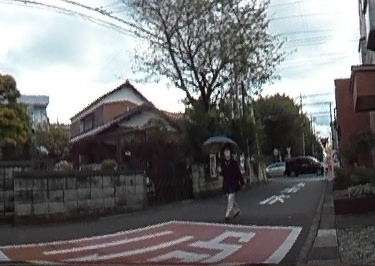person: (222, 143, 244, 213)
